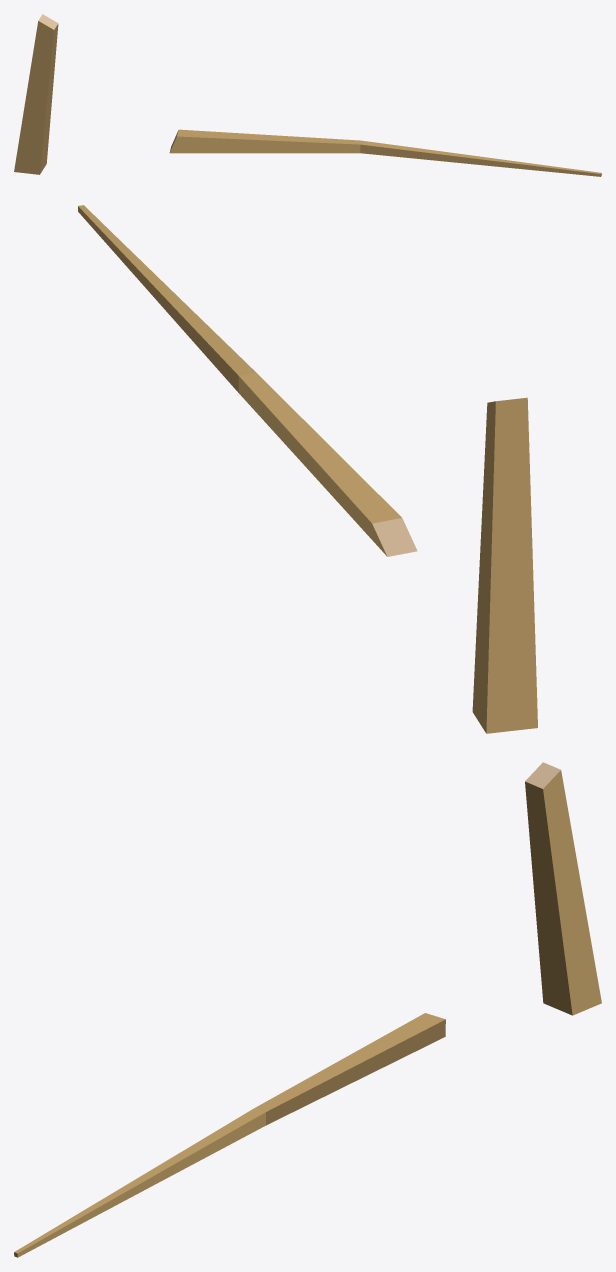
File: Simple_Tree_NoLeaves_crk_s_BT_03.fbx
3 views of the same model, one above another, from view 1: azimuth 30°, elevation 25°; view 2: azimuth 150°, elevation 25°; view 3: azimuth 270°, elevation 25° (orthographic). The views are drawn at different scales.
Parts seen in each view (by area): view 1: Simple_Tree_NoLeaves_crk_s_BT_03; view 2: Simple_Tree_NoLeaves_crk_s_BT_03; view 3: Simple_Tree_NoLeaves_crk_s_BT_03.
Part boxes in pixels (box(x1,y1,x2,y2)): Simple_Tree_NoLeaves_crk_s_BT_03: box(14, 14, 601, 176); Simple_Tree_NoLeaves_crk_s_BT_03: box(78, 205, 537, 733); Simple_Tree_NoLeaves_crk_s_BT_03: box(14, 762, 601, 1257).
Bounding box in the file's own units: 280 × 101 × 224.
